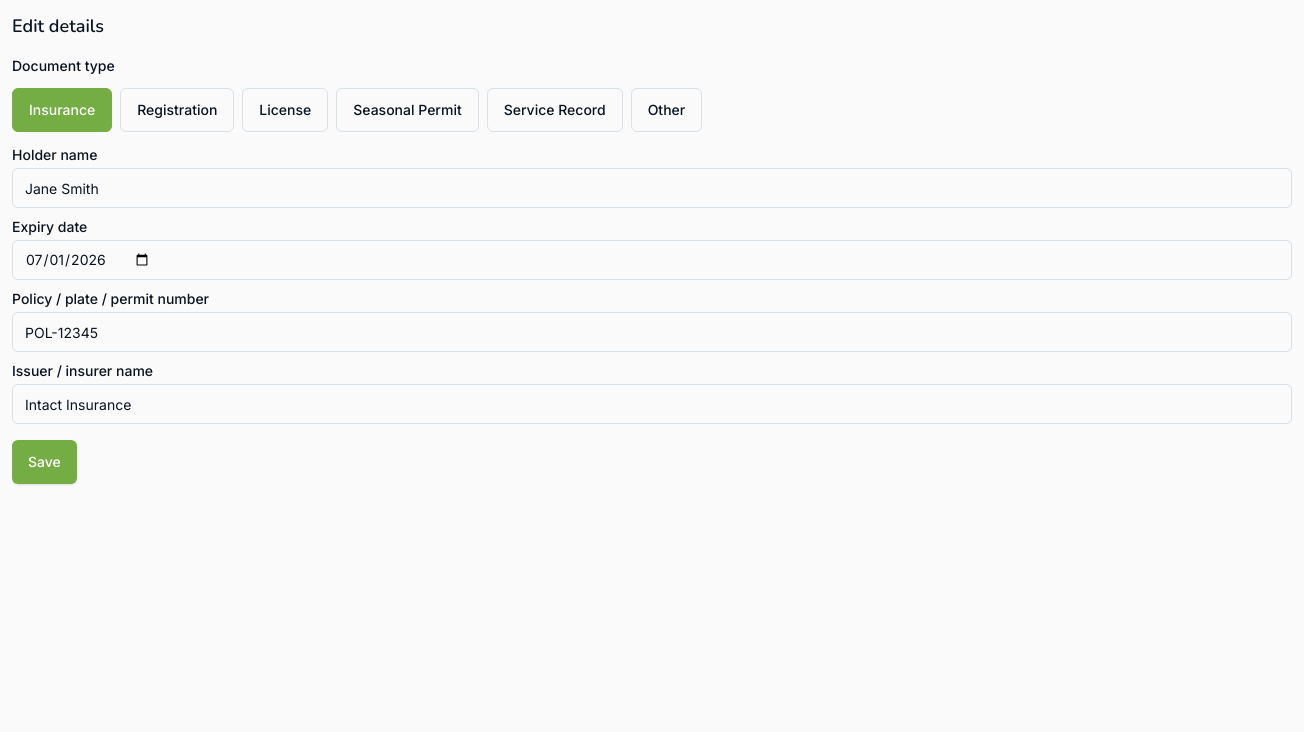
it: DocumentEditForm › shows error message when updateDocument returns failure
Click the button "Save": (44, 462) x1=12 y1=440 x2=77 y2=484
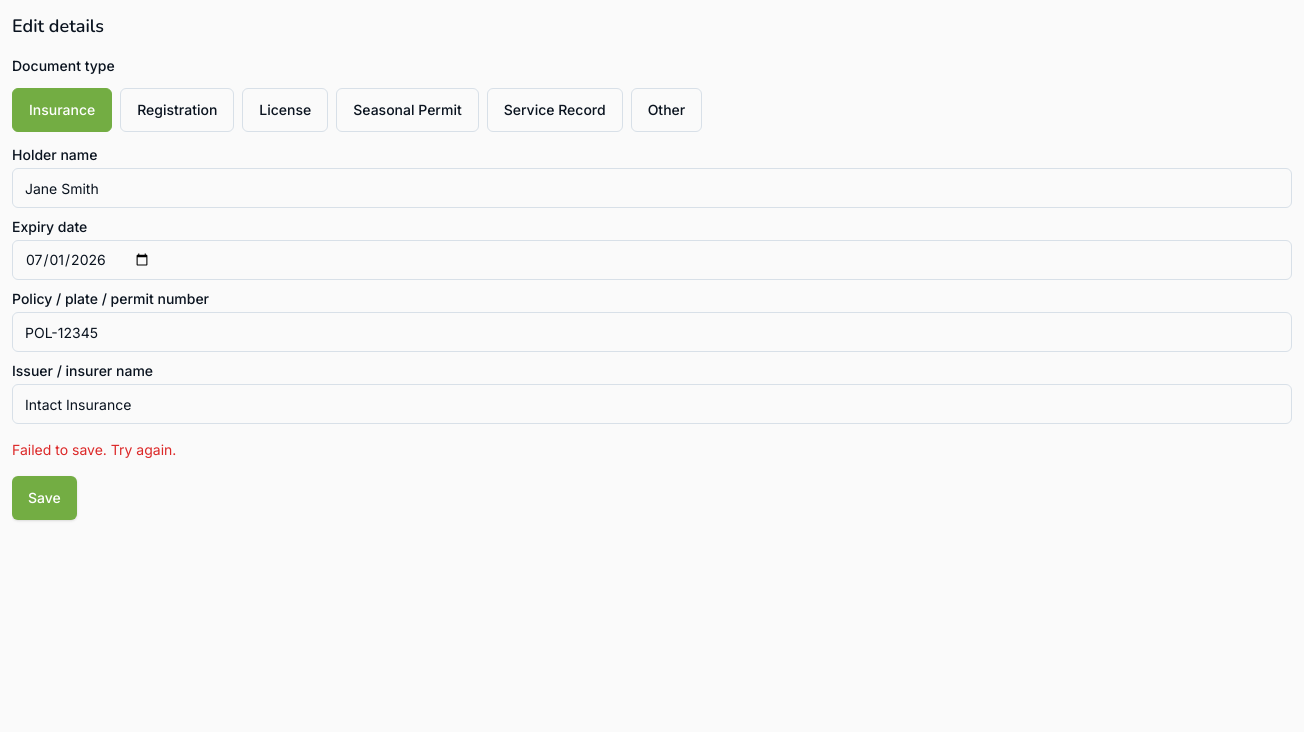
expect the message reads "Failed to save. Try again.": met, box x1=12 y1=441 x2=176 y2=458
